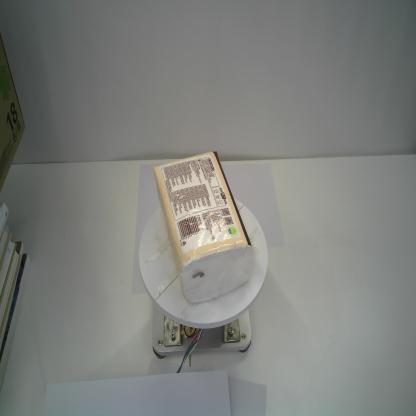Tissue: (152, 150, 254, 305)
